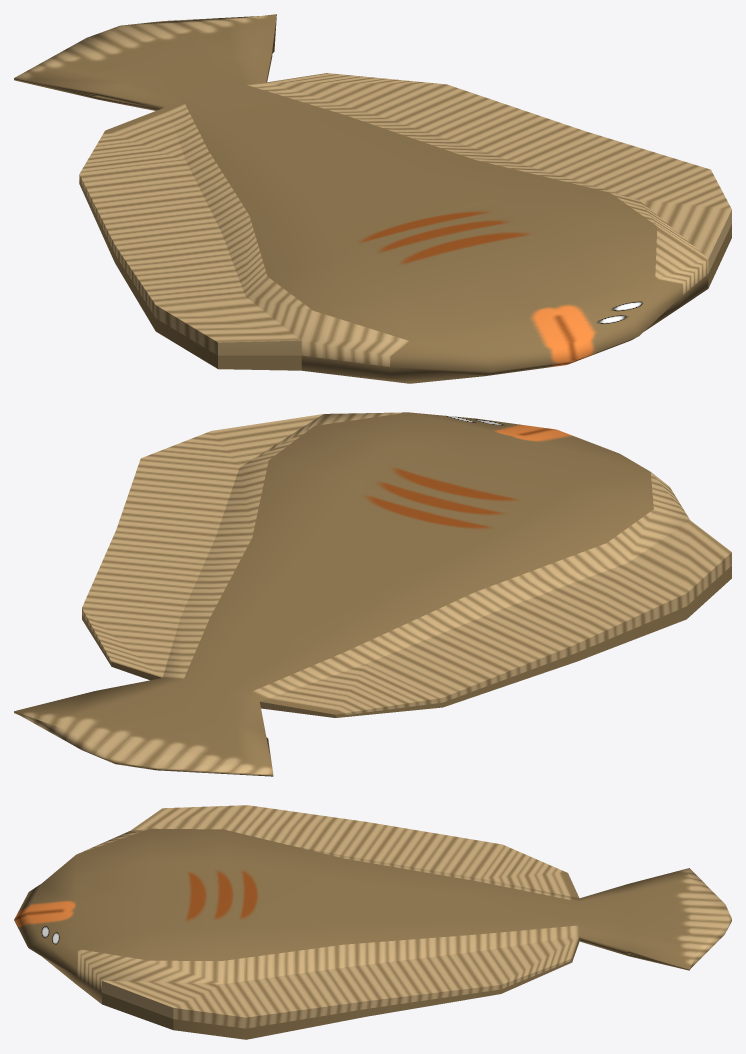
Rendered from 가자미.FBX.
The picture shows the model from 3 angles, top to bottom: view 1: azimuth 30°, elevation 25°; view 2: azimuth 150°, elevation 25°; view 3: azimuth 270°, elevation 25°; orthographic projection. The views are drawn at different scales.
Visible parts, largest first — view 1: Box001; view 2: Box001; view 3: Box001.
Boxes of the visible parts, x1,y1,x2,y2 form: Box001: [14, 14, 731, 383]; Box001: [14, 412, 731, 776]; Box001: [14, 805, 731, 1039].
Size of the model in its own units: 80.2 by 8.47 by 114.
1 material, 1 textured.
